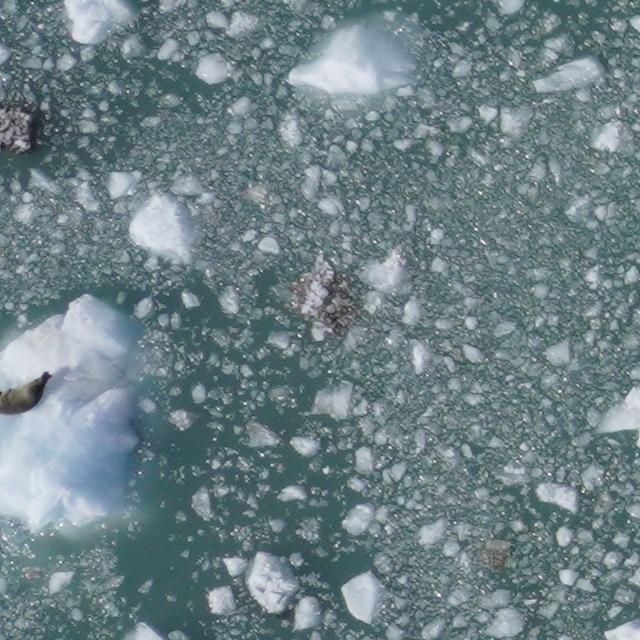seal: (0, 366, 57, 418)
